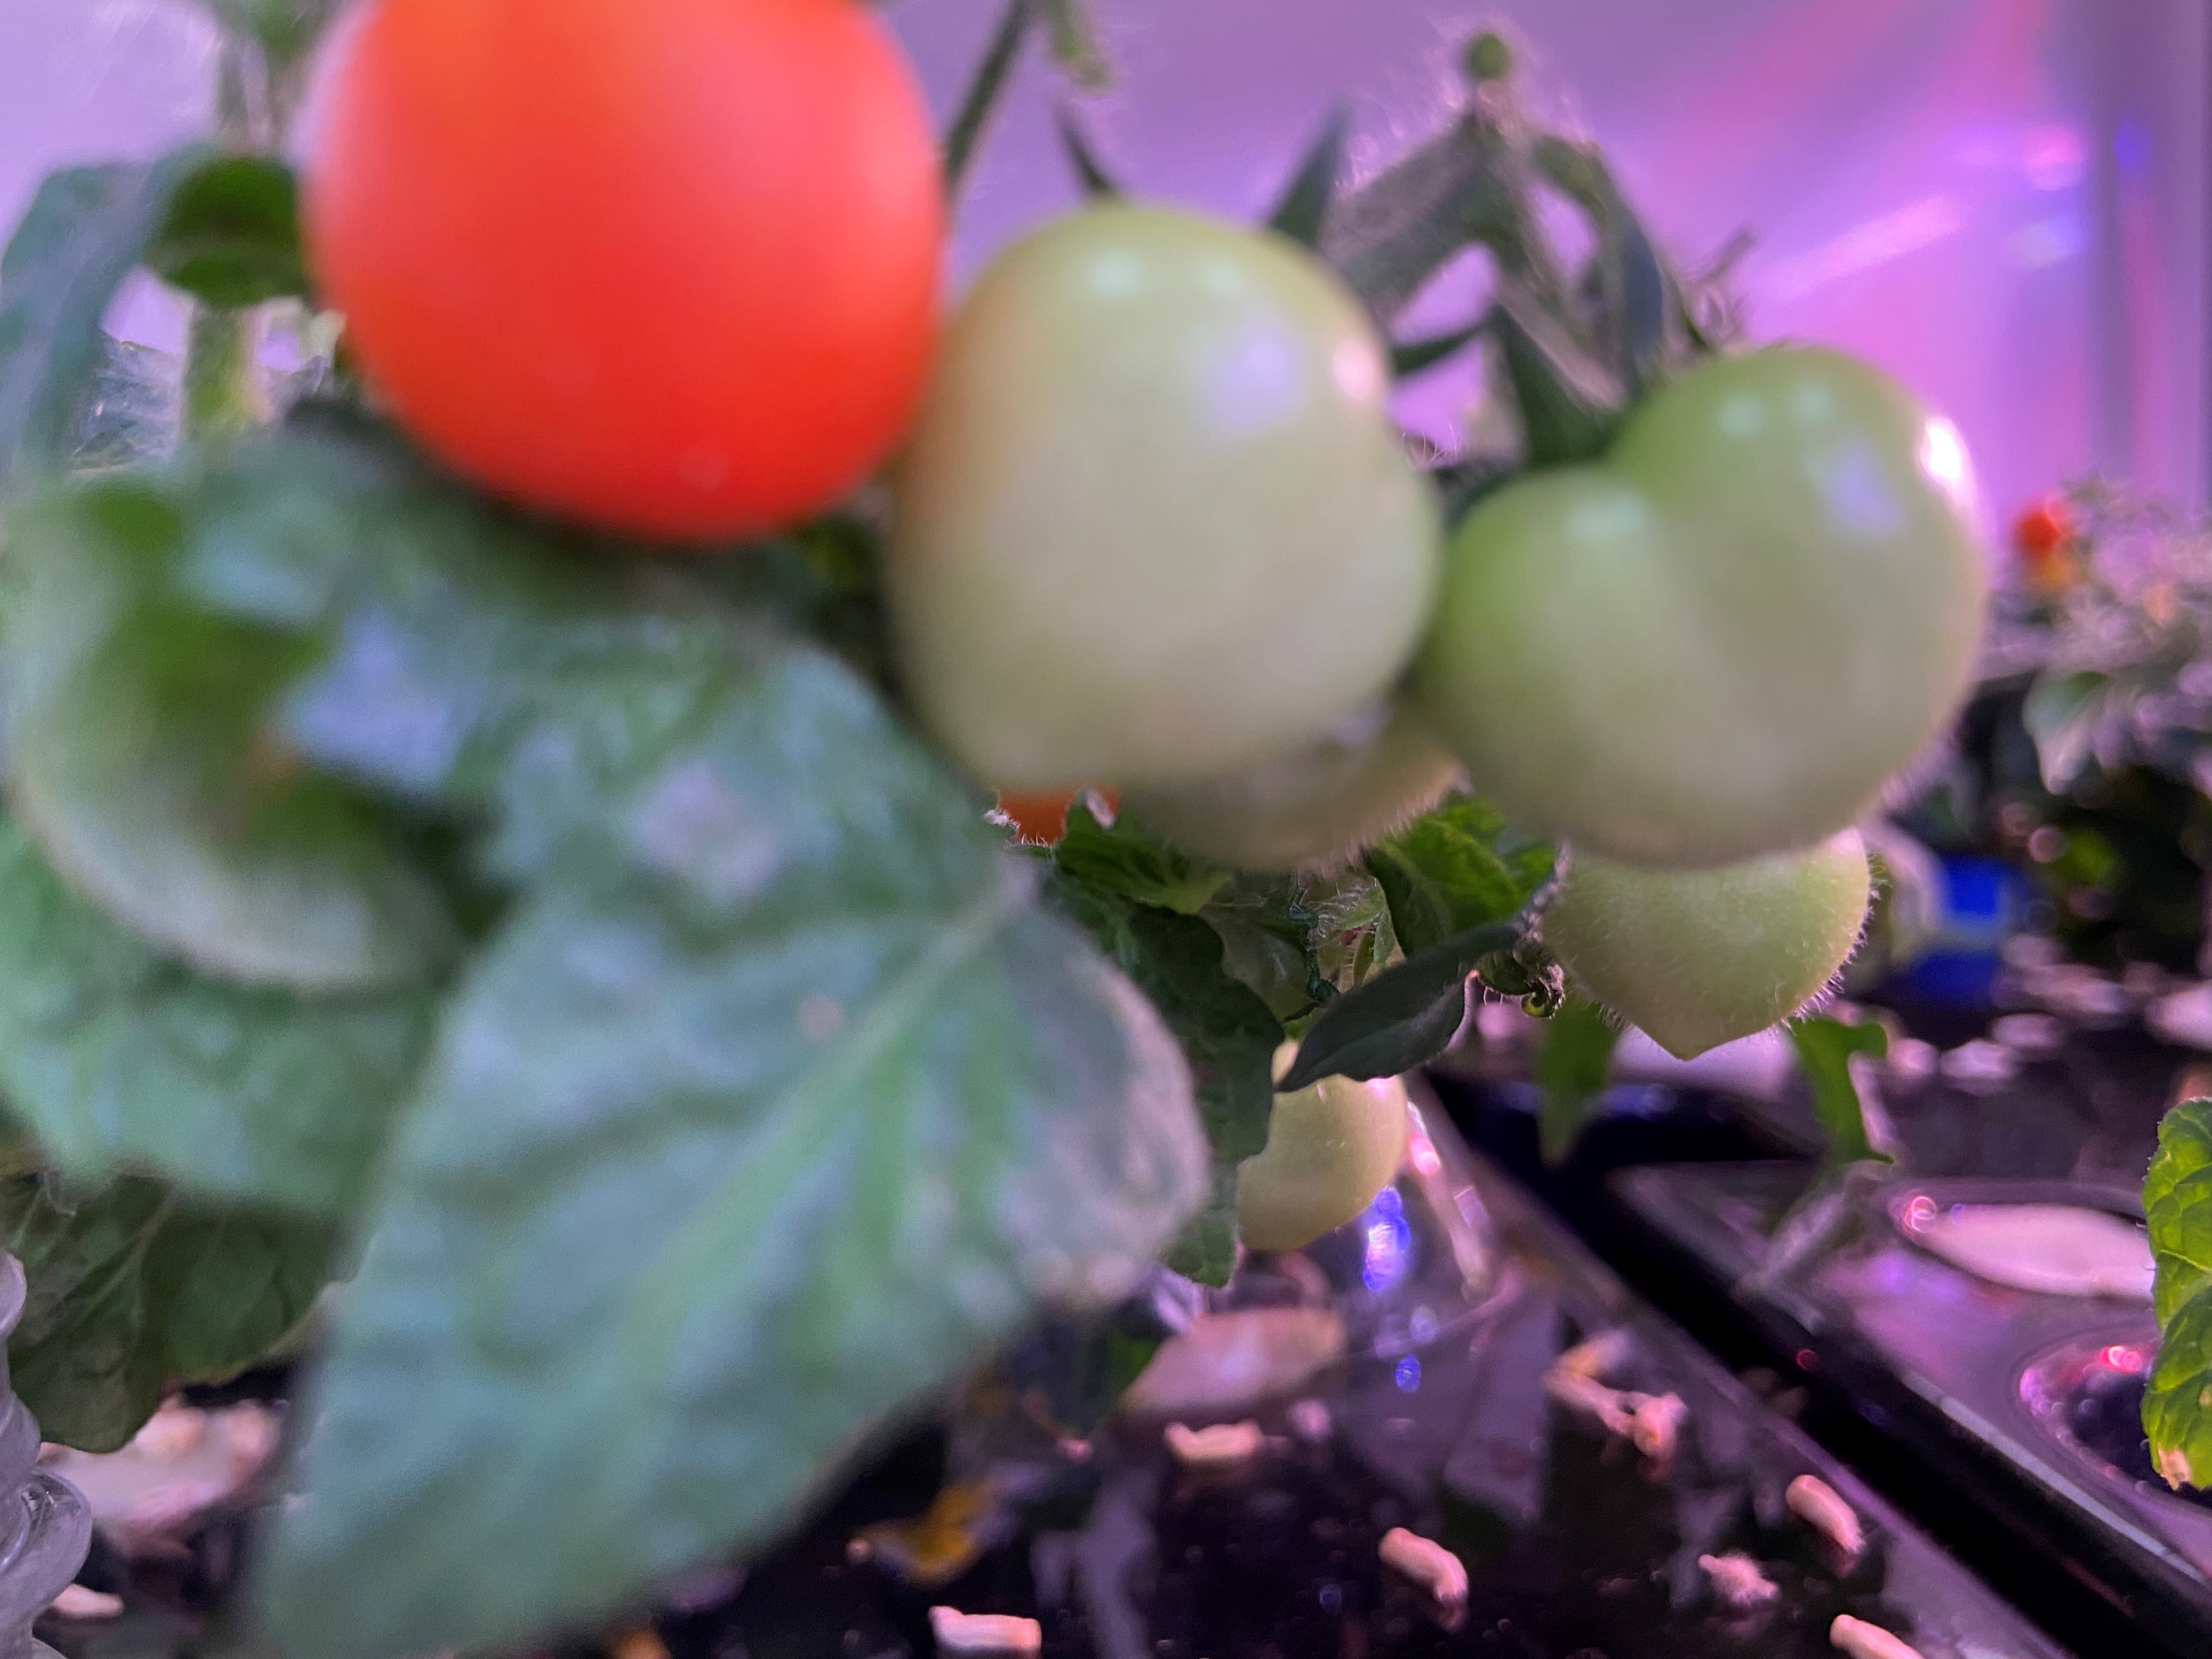green: (881, 195, 1432, 802), (1440, 338, 1991, 870), (1529, 789, 1878, 1063), (1211, 1035, 1409, 1258)
red: (294, 2, 951, 551)
